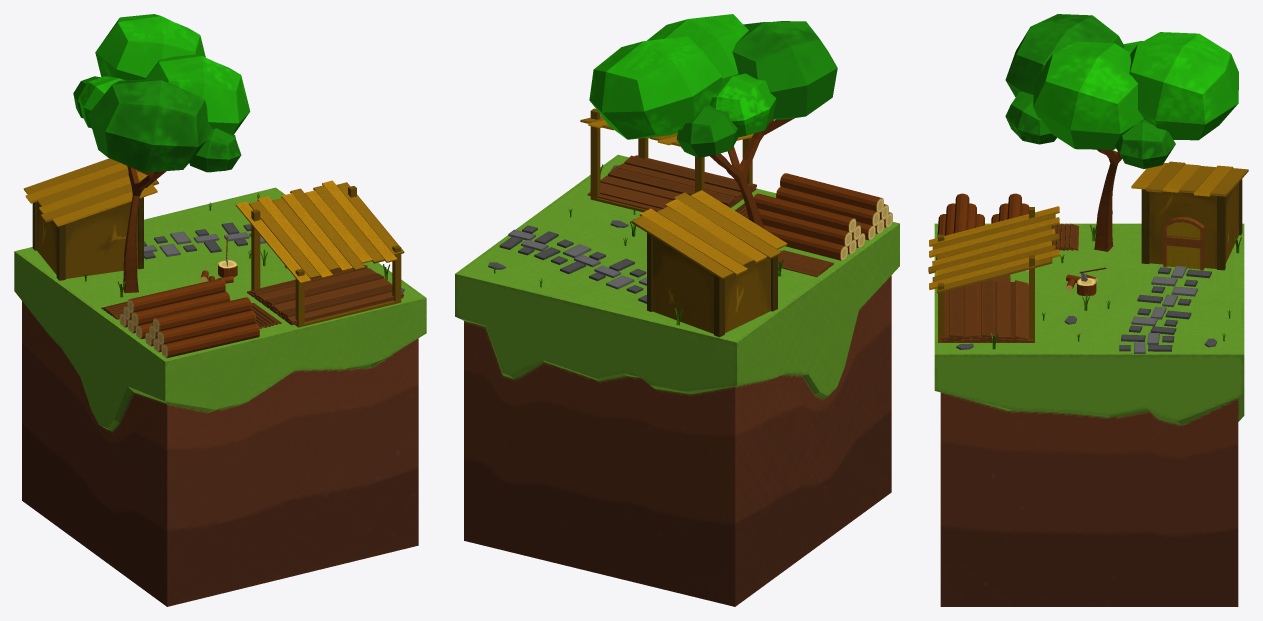
File: Concepts_6.fbx
3 views of the same model, side by side, from view 1: azimuth 30°, elevation 25°; view 2: azimuth 150°, elevation 25°; view 3: azimuth 270°, elevation 25° (orthographic). The views are drawn at different scales.
Parts seen in each view (by area): view 1: Cube.078, Cube.090, Cube.083, Cube.089, Cube.084, Cube.085, Cube.087, Cube.079; view 2: Cube.078, Cube.090, Cube.089, Cube.084, Cube.087, Cube.085, Cube.079, Cube.083, Cube.088; view 3: Cube.078, Cube.090, Cube.089, Cube.083, Cube.084, Cube.079, Cube.085, Cube.009, Cube.087, Cube.088.
Part boxes in pixels (x1,y1,x2,y2): Cube.078: (14,187,426,606); Cube.090: (73,14,250,293); Cube.083: (235,180,404,327); Cube.089: (23,158,158,280); Cube.084: (247,265,403,325); Cube.085: (145,297,259,358); Cube.087: (119,278,230,339); Cube.079: (144,222,265,259); Cube.078: (455,154,899,606); Cube.090: (589,14,837,228); Cube.089: (631,190,787,337); Cube.084: (587,155,756,211); Cube.087: (748,193,865,260); Cube.085: (776,173,892,240); Cube.079: (499,225,646,303); Cube.083: (580,108,753,212); Cube.088: (778,250,833,276); Cube.078: (934,223,1244,606); Cube.090: (1005,14,1238,251); Cube.089: (1131,161,1248,270); Cube.083: (928,206,1059,342); Cube.084: (940,279,1033,342); Cube.079: (1119,266,1211,353); Cube.085: (936,193,984,259); Cube.009: (956,225,1241,349); Cube.087: (991,193,1029,271); Cube.088: (1052,223,1079,250).
Size of the model in its own units: 307 by 525 by 311.
